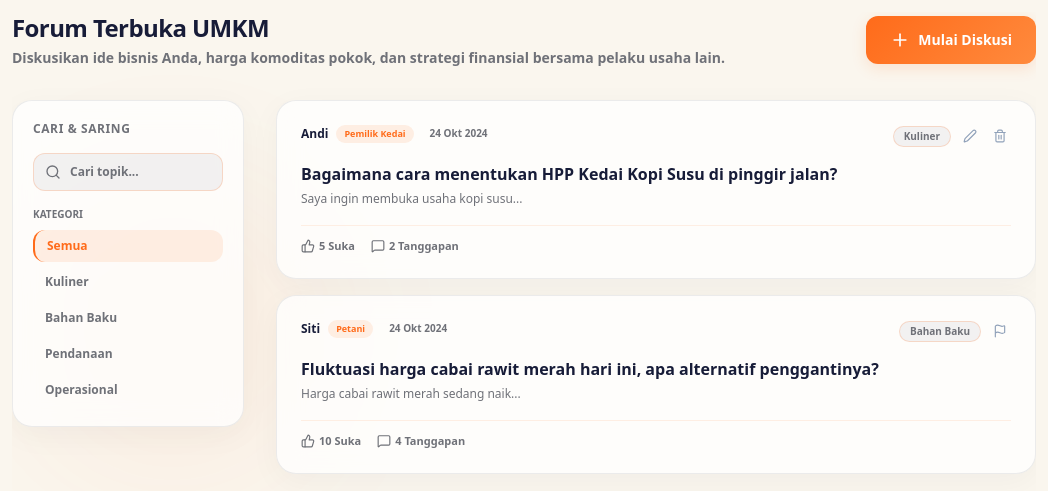
Test: ForumTerbuka Component › shows delete button when user is the author and handles delete
Expected: the heading "Bagaimana cara menentukan HPP Kedai Kopi Susu di pinggir jalan?" is shown, [301,163,837,185]
Note: Click the delete button
Step 1. Click the button titled "Hapus Diskusi" → {"x": 1000, "y": 136}, box [989,125,1011,147]
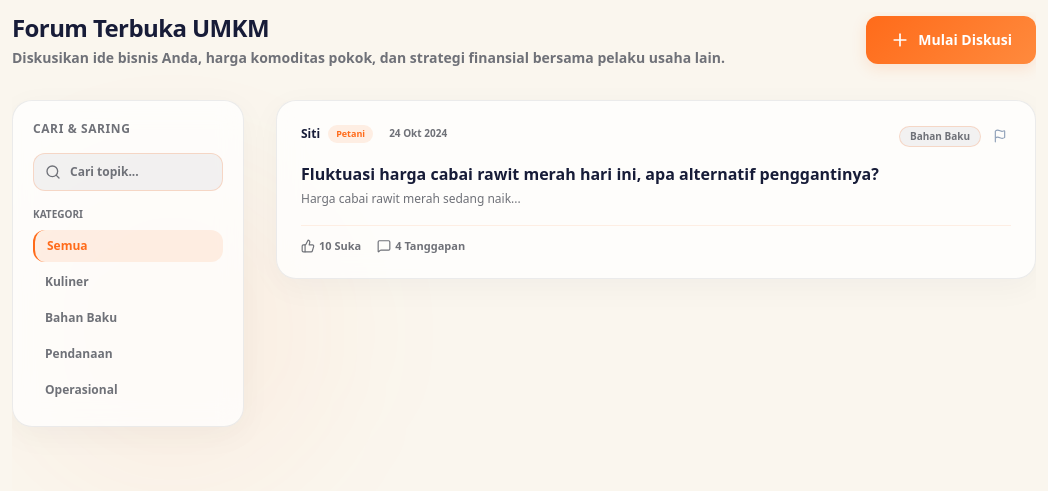
Expected: the heading "Bagaimana cara menentukan HPP Kedai Kopi Susu di pinggir jalan?" is gone
